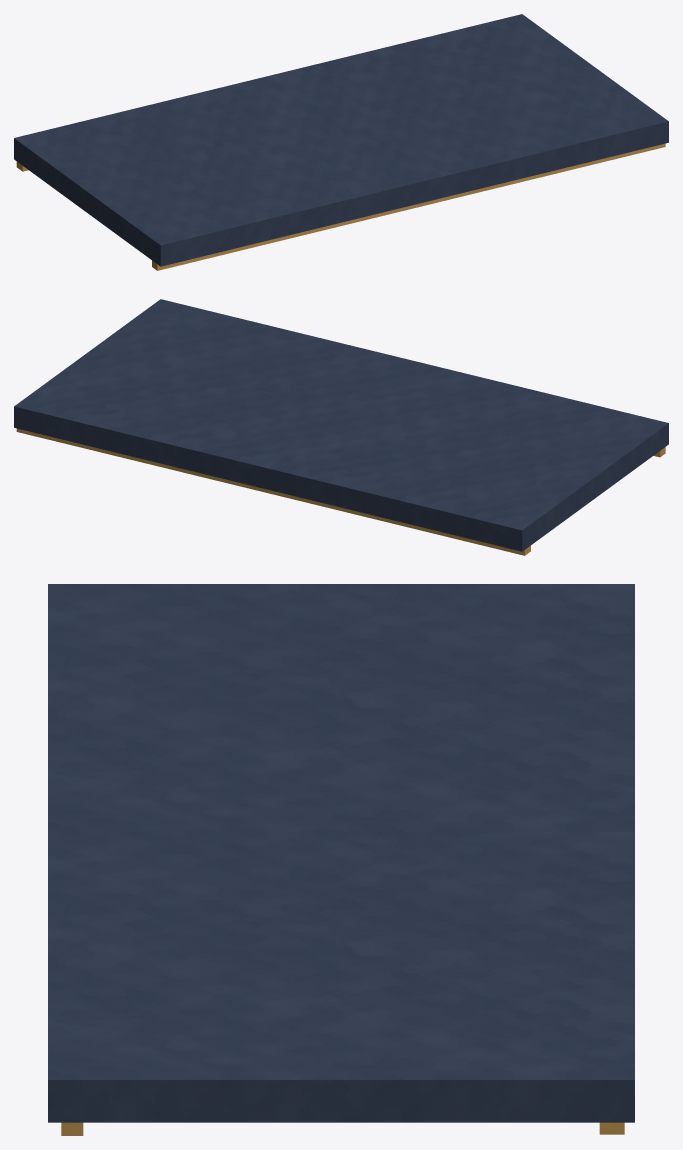
Rendered from SM_Theater_Roof_Side4.fbx.
3 renders of one model, top to bottom at view 1: azimuth 30°, elevation 25°; view 2: azimuth 150°, elevation 25°; view 3: azimuth 270°, elevation 25°, orthographic. The views are drawn at different scales.
Parts seen in each view (by area): view 1: SM_Theater_Roof_Side4_LOD0; view 2: SM_Theater_Roof_Side4_LOD0; view 3: SM_Theater_Roof_Side4_LOD0.
Boxes of the visible parts, x1,y1,x2,y2 form: SM_Theater_Roof_Side4_LOD0: [14, 14, 668, 270]; SM_Theater_Roof_Side4_LOD0: [14, 299, 668, 555]; SM_Theater_Roof_Side4_LOD0: [48, 584, 634, 1135].
Size of what is drawn, in the model's own units: 8 by 0.42 by 4.
